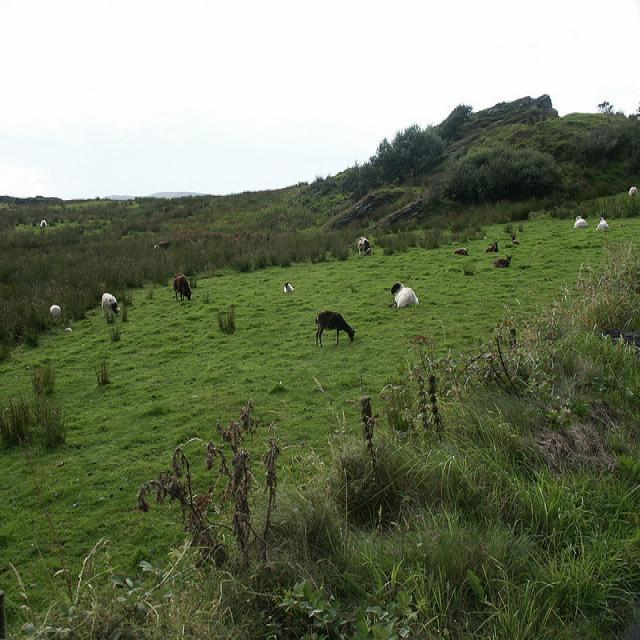cow: (171, 269, 191, 299), (281, 280, 293, 293)
